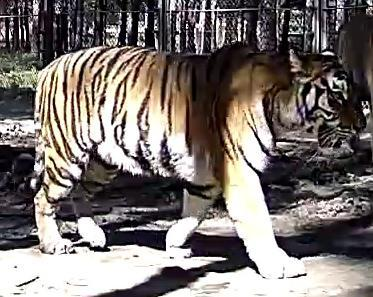tiger: (34, 43, 365, 277)
